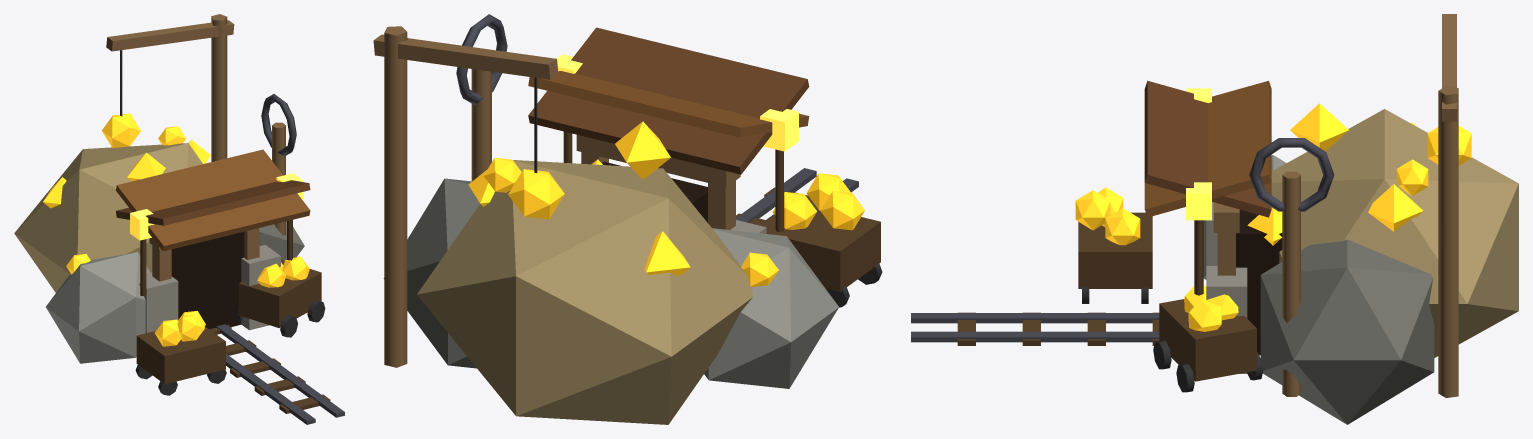
The model's file is goblin-level3.glb.
3 views of the same model, side by side, from view 1: azimuth 30°, elevation 25°; view 2: azimuth 150°, elevation 25°; view 3: azimuth 270°, elevation 25° (orthographic). The views are drawn at different scales.
Size of the model in its own units: 2.3 by 2.25 by 3.67.
